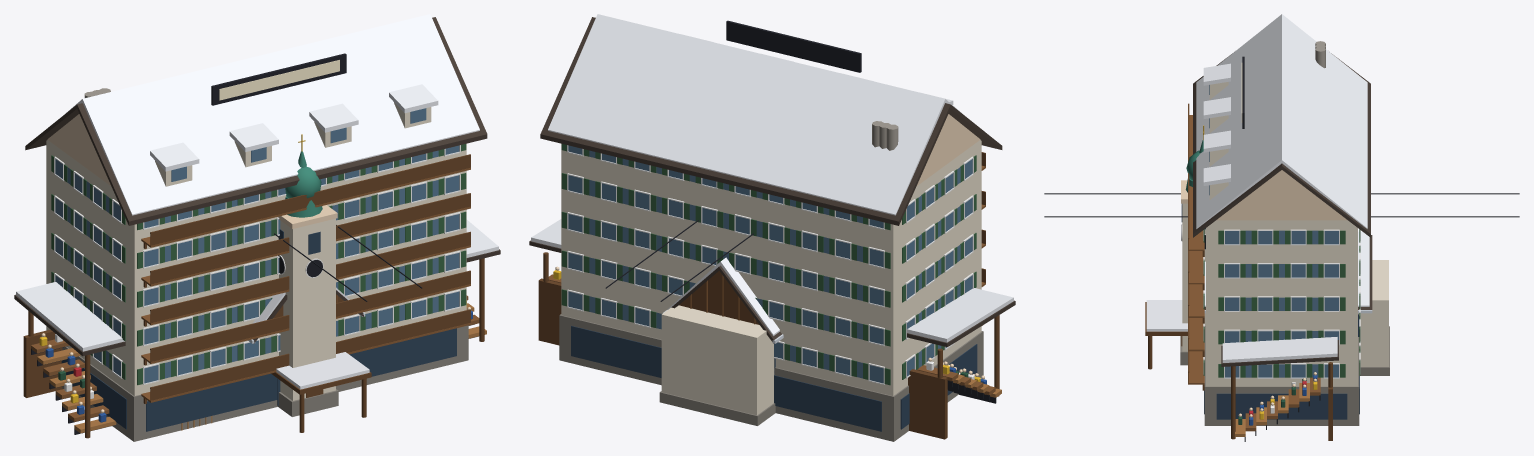
File: alpine.glb
The picture shows the model from 3 angles, left to right: view 1: azimuth 30°, elevation 25°; view 2: azimuth 150°, elevation 25°; view 3: azimuth 270°, elevation 25°; orthographic projection. The views are drawn at different scales.
Visible parts, largest first — view 1: hotel, hotel~far, stand, chapel, chapel~far, stand~far; view 2: hotel, hotel~far, chapel, stand, chapel~far, stand~far; view 3: hotel, hotel~far, stand, chapel, chapel~far, lift, stand~far.
Part boxes in pixels (left/top/right/bottom): hotel: left=25, top=14, right=487, bottom=440; hotel~far: left=46, top=53, right=470, bottom=441; stand: left=14, top=219, right=500, bottom=438; chapel: left=248, top=134, right=365, bottom=416; chapel~far: left=265, top=205, right=349, bottom=416; stand~far: left=31, top=296, right=486, bottom=433; hotel: left=540, top=14, right=1002, bottom=440; hotel~far: left=559, top=20, right=985, bottom=441; chapel: left=660, top=257, right=783, bottom=425; stand: left=529, top=219, right=1015, bottom=439; chapel~far: left=659, top=262, right=779, bottom=425; stand~far: left=544, top=252, right=1001, bottom=397; hotel: left=1146, top=14, right=1370, bottom=425; hotel~far: left=1145, top=41, right=1359, bottom=425; stand: left=1221, top=337, right=1338, bottom=441; chapel: left=1180, top=125, right=1389, bottom=366; chapel~far: left=1180, top=126, right=1389, bottom=375; lift: left=1044, top=193, right=1519, bottom=217; stand~far: left=1235, top=362, right=1332, bottom=436.
Size of the model in its own units: 35 by 25.58 by 40.
